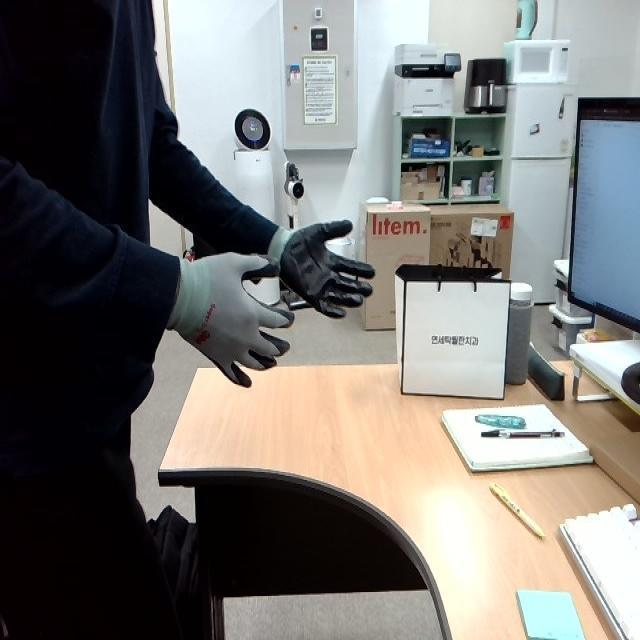gloved_hand: (160, 248, 296, 401), (261, 209, 377, 323)
